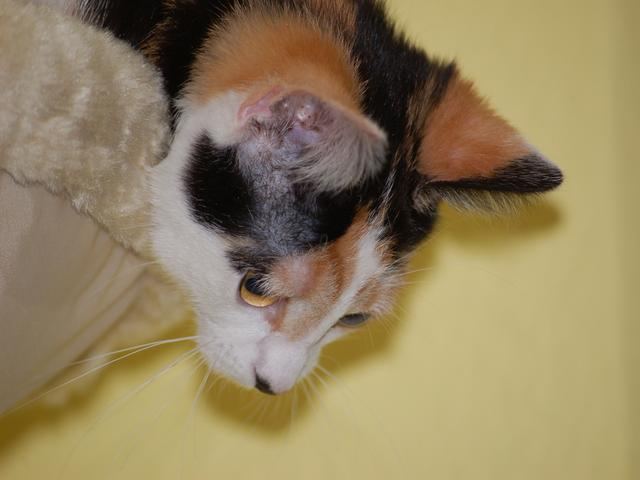cat: (111, 21, 561, 418)
